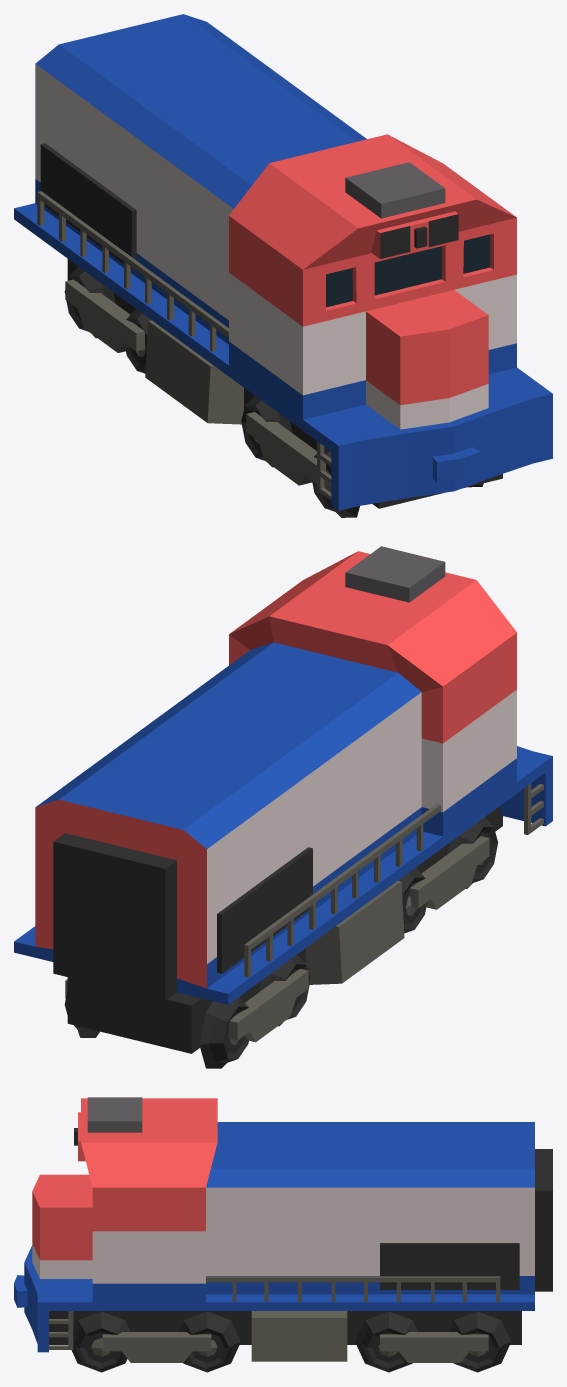
Rendered from TrainHead.fbx.
3 renders of one model, top to bottom at view 1: azimuth 30°, elevation 25°; view 2: azimuth 150°, elevation 25°; view 3: azimuth 270°, elevation 25°, orthographic. The views are drawn at different scales.
Visible parts, largest first — view 1: Train_Locomotive_Upper, Train_Wheel3, Train_Wheel1, Wheel, Train_Wheel; view 2: Train_Locomotive_Upper, Train_Wheel, Train_Wheel3, Train_Wheel1, Wheel; view 3: Train_Locomotive_Upper, Wheel, Train_Wheel3, Train_Wheel, Train_Wheel1.
Part boxes in pixels (left/top/right/bottom): Train_Locomotive_Upper: left=14, top=14, right=552, bottom=510; Train_Wheel3: left=65, top=279, right=325, bottom=485; Train_Wheel1: left=145, top=320, right=243, bottom=424; Wheel: left=64, top=266, right=483, bottom=517; Train_Wheel: left=67, top=259, right=502, bottom=508; Train_Locomotive_Upper: left=14, top=546, right=552, bottom=1004; Train_Wheel: left=67, top=805, right=502, bottom=1053; Train_Wheel3: left=65, top=836, right=489, bottom=1042; Train_Wheel1: left=305, top=880, right=404, bottom=984; Wheel: left=64, top=817, right=498, bottom=1068; Train_Locomotive_Upper: left=14, top=1097, right=552, bottom=1352; Wheel: left=68, top=1311, right=510, bottom=1372; Train_Wheel3: left=102, top=1332, right=488, bottom=1362; Train_Wheel: left=49, top=1311, right=521, bottom=1344; Train_Wheel1: left=251, top=1311, right=347, bottom=1361.
Bounding box in the file's own units: 375 × 1068 × 524.
